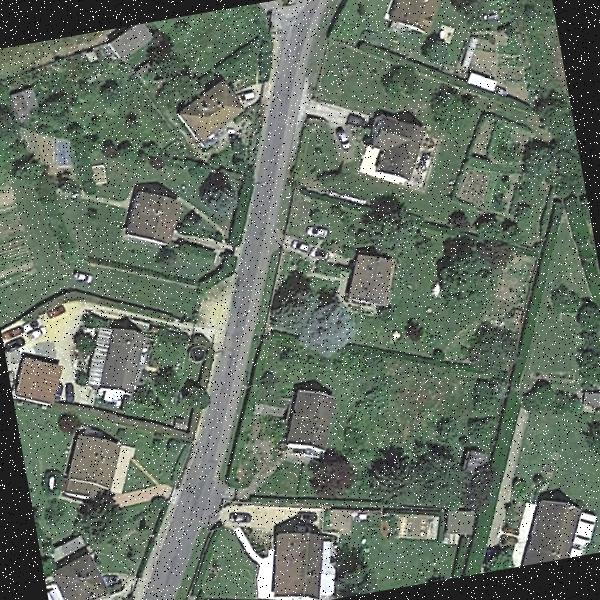Buildings: (268, 390, 344, 462), (511, 494, 588, 565), (55, 438, 138, 503), (264, 529, 332, 600), (82, 325, 153, 390), (362, 116, 428, 181), (41, 549, 117, 600), (119, 176, 177, 242), (344, 248, 396, 307), (12, 357, 66, 408), (390, 0, 451, 42), (181, 90, 235, 132)
